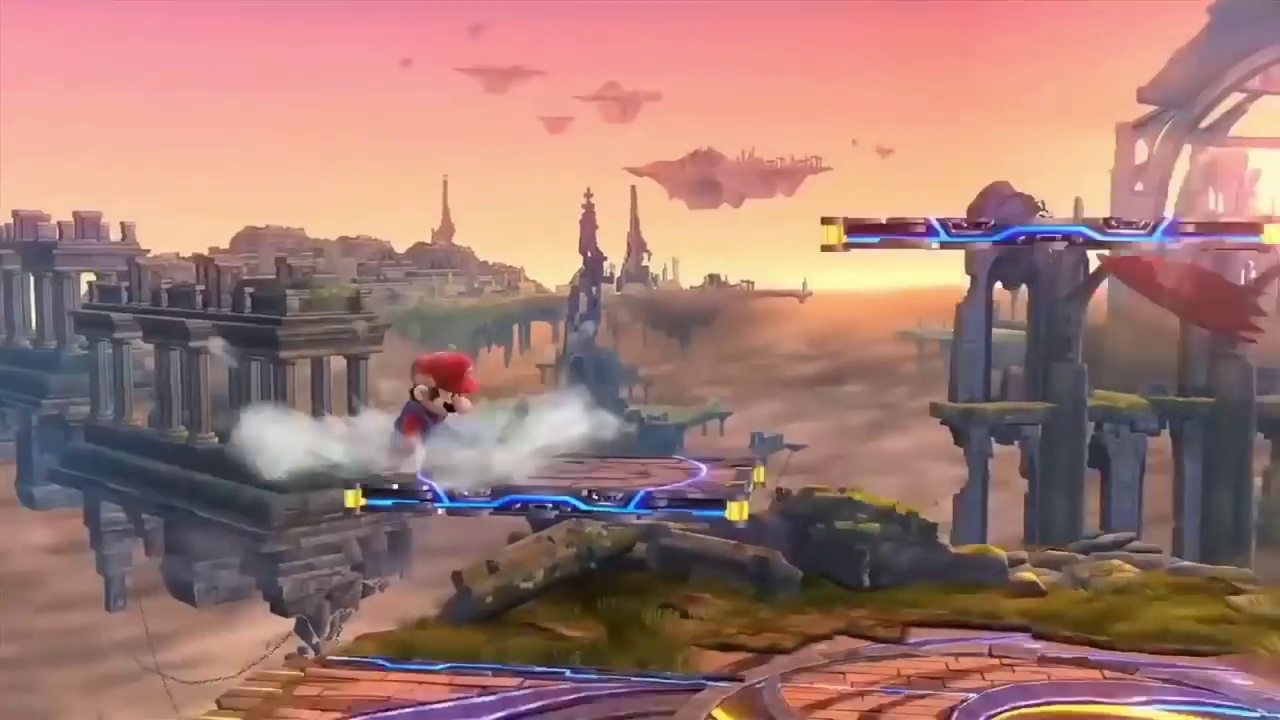Mario: (389, 353, 481, 474)
